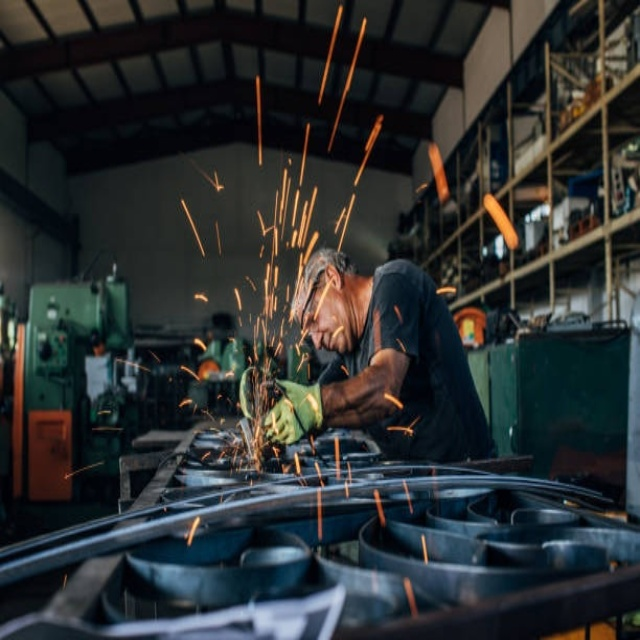Gafas: (301, 270, 327, 330)
Guantes: (264, 372, 325, 449)
Sin_mascara: (319, 326, 340, 355)
